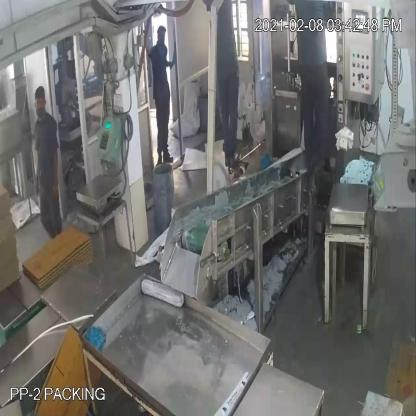no_glove: (46, 138, 64, 208)
